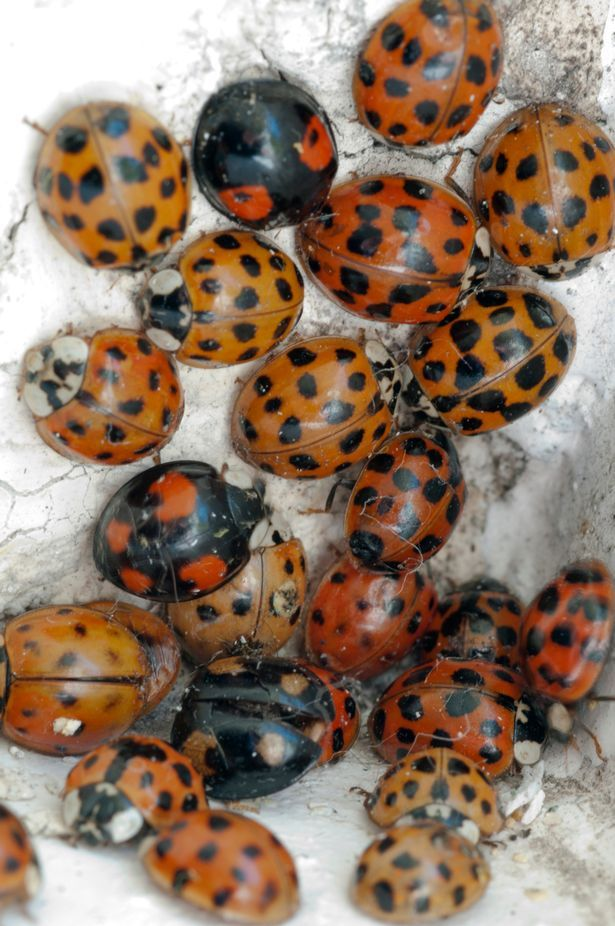red: (294, 175, 493, 325), (399, 284, 578, 443), (31, 101, 188, 273), (228, 332, 404, 483), (474, 98, 615, 275), (141, 229, 307, 374), (352, 0, 507, 153), (0, 603, 152, 757), (20, 326, 186, 467), (370, 653, 541, 774), (140, 810, 304, 922), (346, 424, 469, 567), (60, 730, 202, 849), (346, 823, 495, 925)
two_spots: (189, 77, 342, 232)
two_spots_mutant: (172, 650, 335, 802), (94, 461, 261, 606)
